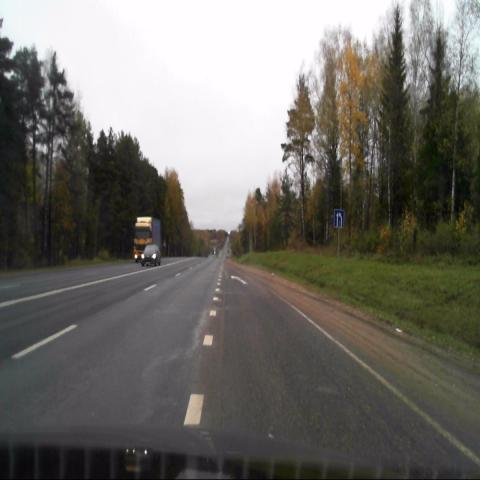5_15_5: (334, 210, 344, 228)
